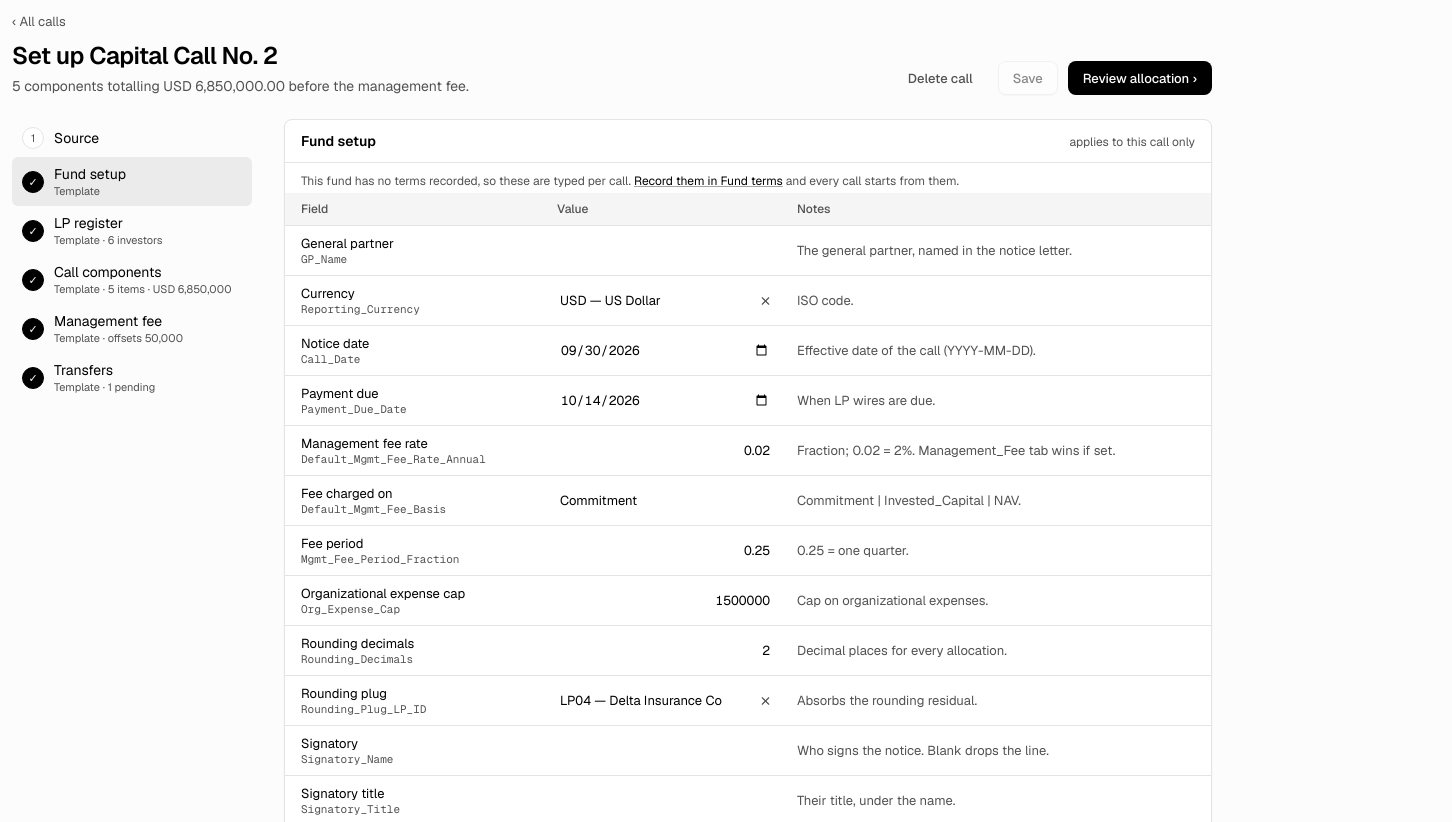
it: saving, only when someone chooses to › keeps an edit on screen and unsaved, and holds back the review until it is saved
Check: the text "Unsaved changes" is not shown
Type "2026-10-01" into the date field named "Call_Date" at (665, 350), box [551,336,779,366]
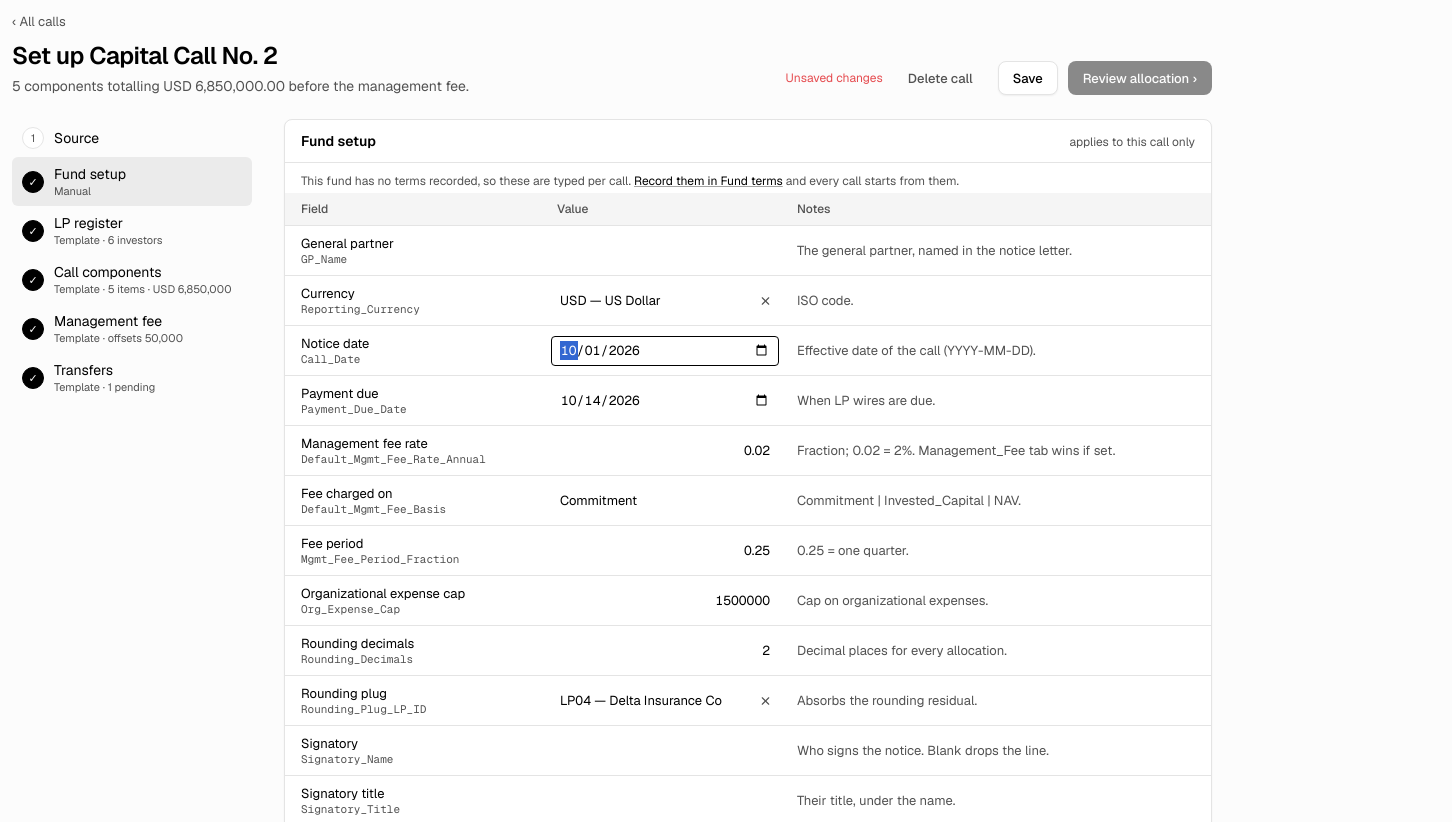
Check: the text "Unsaved changes" is shown, box [786,70,883,86]
Check: the button "Review allocation ›" is disabled, box [1068,61,1212,95]
Click the button "Save" at (1028, 78), box [998,61,1058,95]
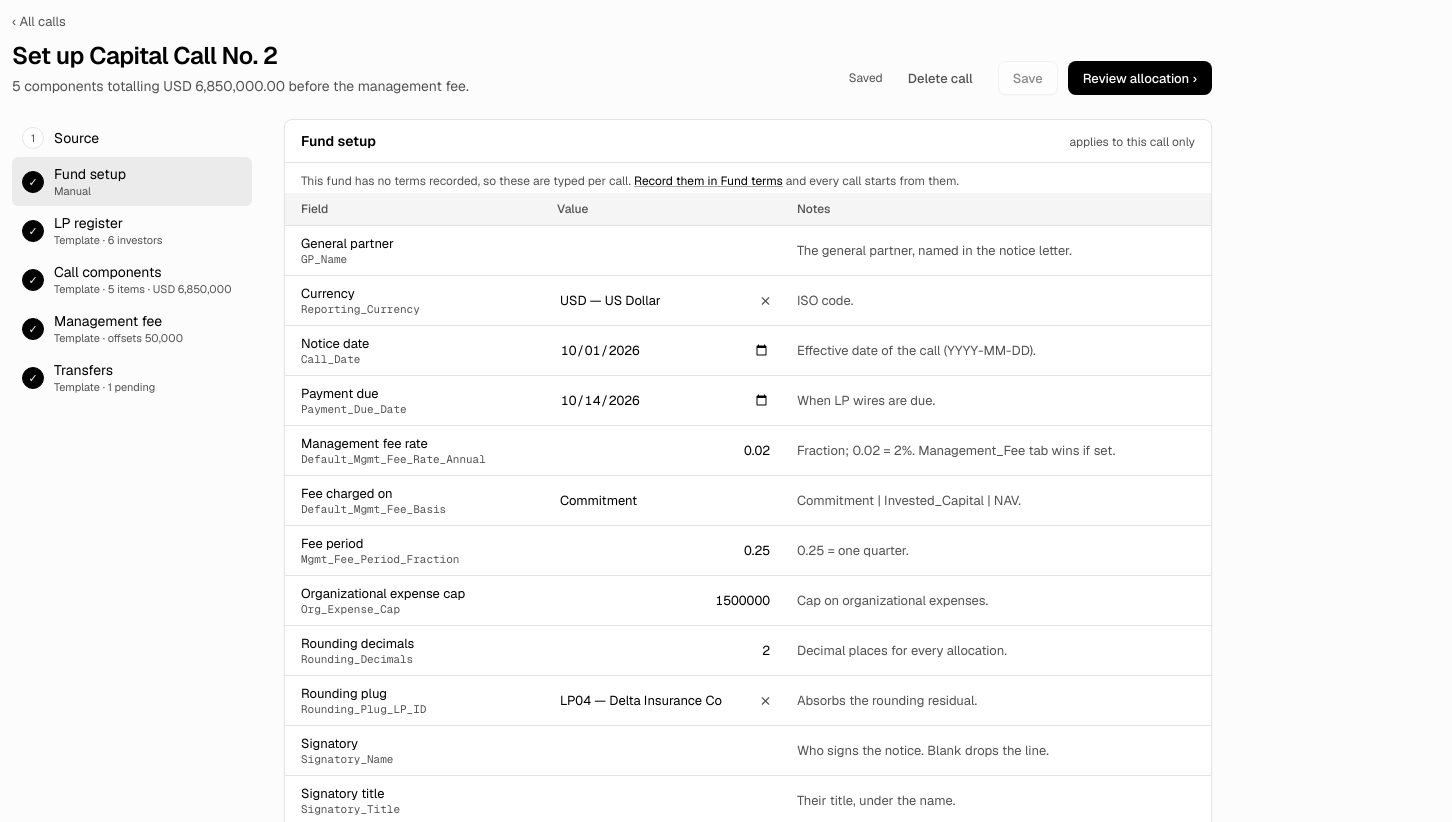
Check: the text "Saved" is shown, box [849,70,883,86]
Check: the button "Review allocation ›" is enabled, box [1068,61,1212,95]
